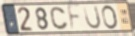2: (17, 6, 35, 33)
8: (35, 7, 50, 31)
C: (49, 6, 69, 31)
F: (66, 3, 83, 33)
O: (101, 4, 120, 30)
U: (82, 5, 102, 31)
